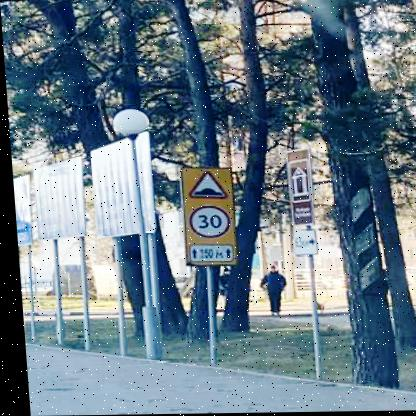Speed Limit -30-: (183, 203, 229, 240)
